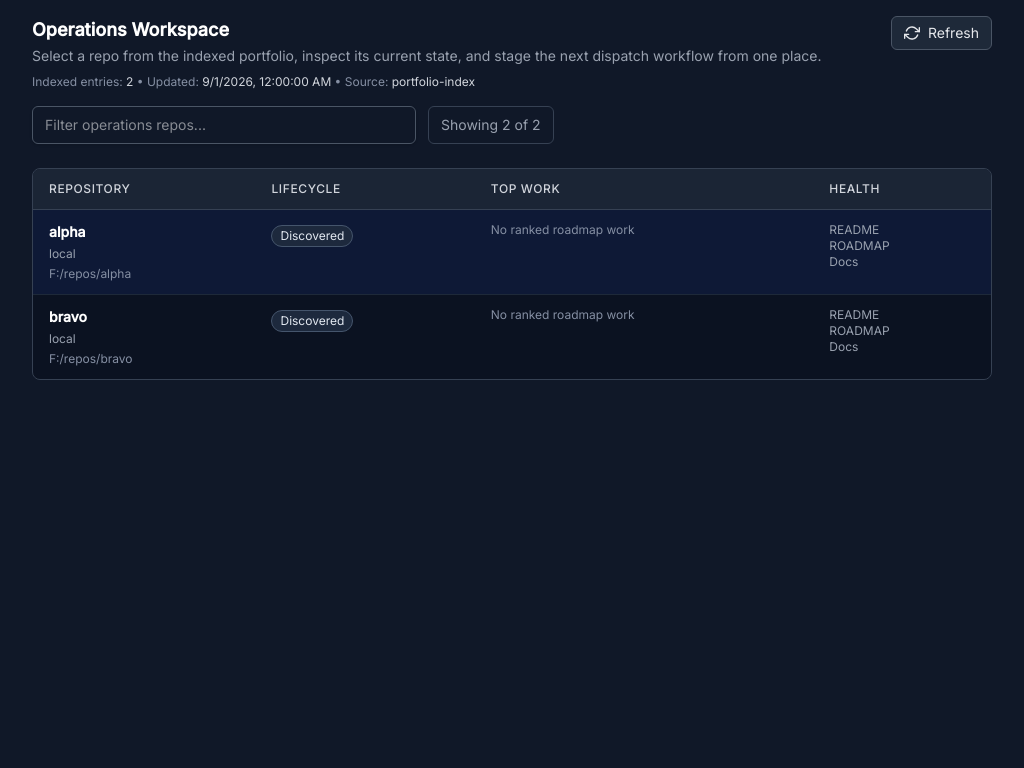
OperationsWorkspaceView — approval names a commit › shows the approval once it exists, and stops offering to make it again
Click the text "alpha" at (67, 232), box [49,223,86,240]
(page scrolled)
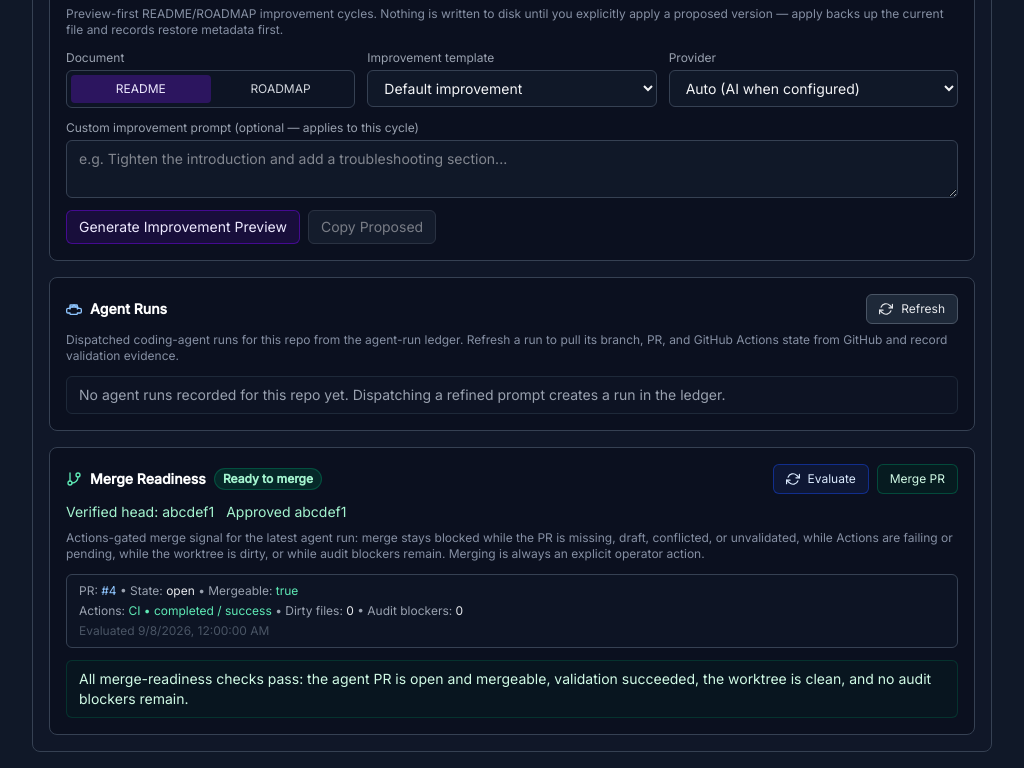
Result: the text "Verified head: abcdef1" is shown at [66,502,214,522]
Result: the text with test id "merge-approved" reads "Approved abcdef1" at [226,502,346,522]
Result: the button with test id "merge-pr-button" is enabled at [877,464,958,494]
